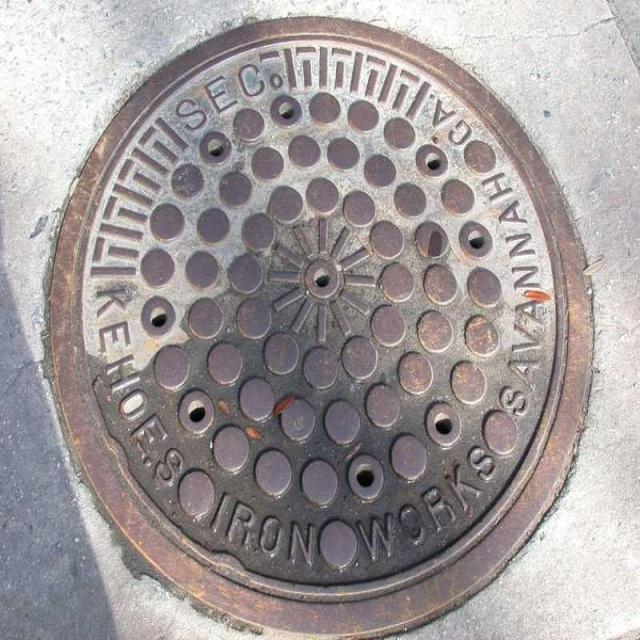manhole: (50, 18, 591, 634)
